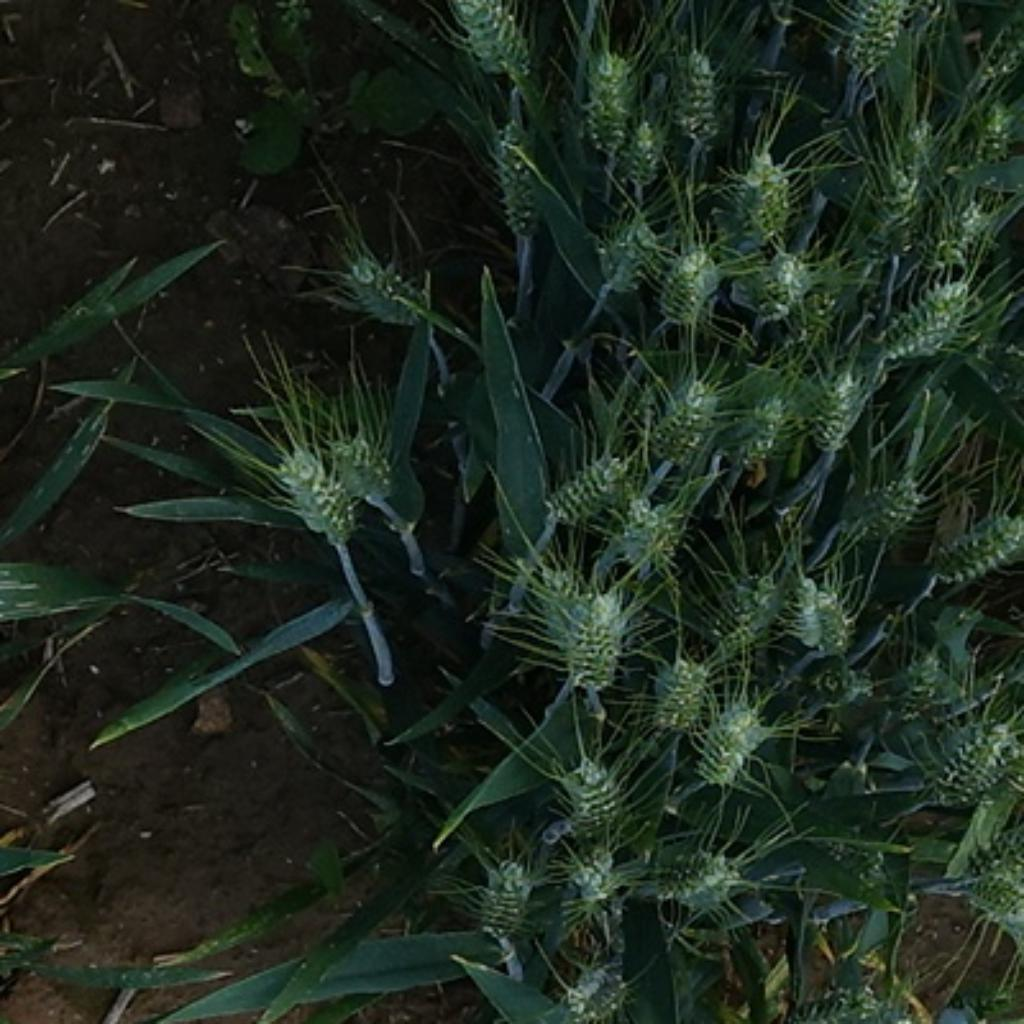0-0: (837, 125, 944, 248), (573, 33, 652, 174), (957, 43, 1024, 204), (872, 271, 979, 370), (637, 363, 732, 465), (543, 437, 645, 529), (908, 184, 1003, 281), (924, 491, 1024, 583), (724, 368, 811, 473), (709, 148, 803, 245), (481, 112, 550, 243), (655, 28, 729, 143), (337, 242, 435, 327), (270, 452, 361, 543), (832, 458, 924, 547), (583, 207, 668, 296), (697, 696, 776, 791), (803, 358, 880, 455), (750, 235, 821, 340), (711, 560, 793, 650), (550, 747, 630, 839), (755, 981, 924, 1024), (606, 486, 691, 570), (933, 723, 1024, 799), (456, 0, 538, 84), (518, 558, 586, 657), (468, 849, 538, 944), (783, 568, 857, 657), (560, 591, 623, 692), (818, 814, 895, 893), (652, 238, 721, 325), (645, 647, 714, 732), (839, 5, 916, 77), (658, 848, 739, 912), (563, 959, 634, 1024), (330, 432, 397, 492), (611, 115, 665, 181), (960, 822, 1024, 876), (562, 855, 616, 911), (901, 652, 942, 719), (966, 876, 1024, 917)
